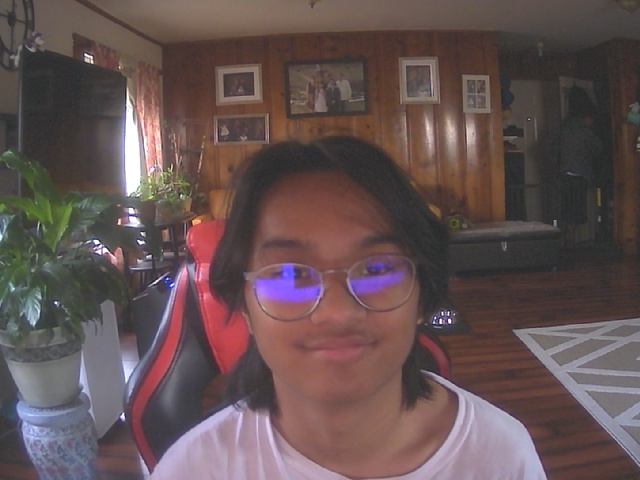happy: (237, 148, 436, 404)
